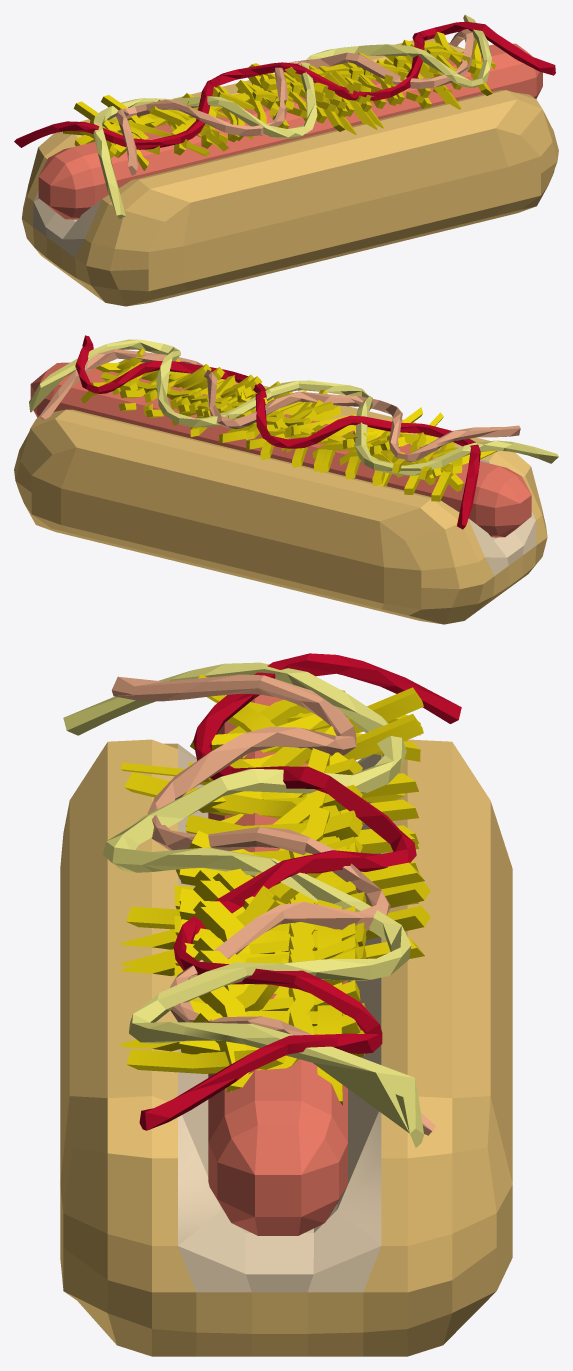
File: Perro caliente.fbx
3 renders of one model, top to bottom at view 1: azimuth 30°, elevation 25°; view 2: azimuth 150°, elevation 25°; view 3: azimuth 270°, elevation 25°, orthographic. The views are drawn at different scales.
Parts seen in each view (by area): view 1: pCube245; view 2: pCube245; view 3: pCube245.
Part boxes in pixels (x1,y1,x2,y2): pCube245: [14, 14, 558, 306]; pCube245: [14, 335, 558, 624]; pCube245: [60, 653, 512, 1356].
Bounding box in the file's own units: 19.6 × 5.89 × 7.85.
